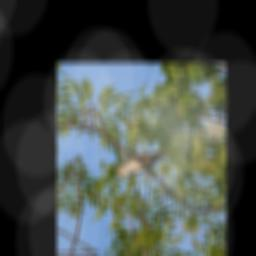Cuckoo: (115, 138, 171, 190)
